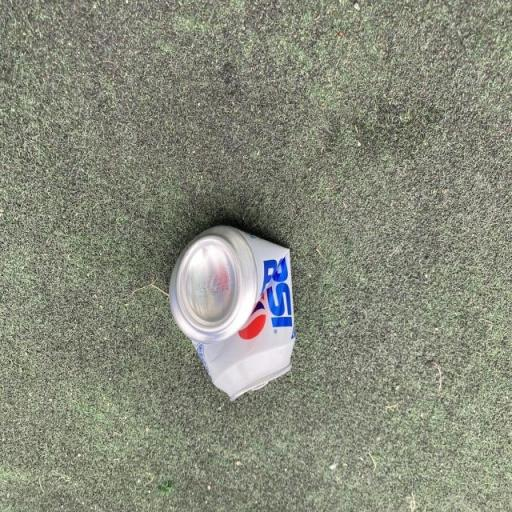metal: (154, 203, 312, 414)
